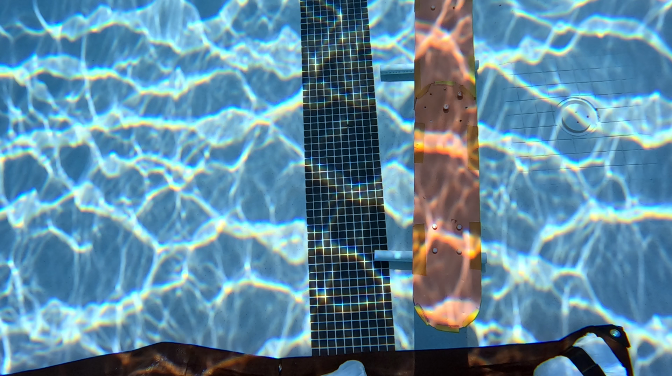pathmarker: (4, 323, 634, 375), (414, 0, 480, 331)
